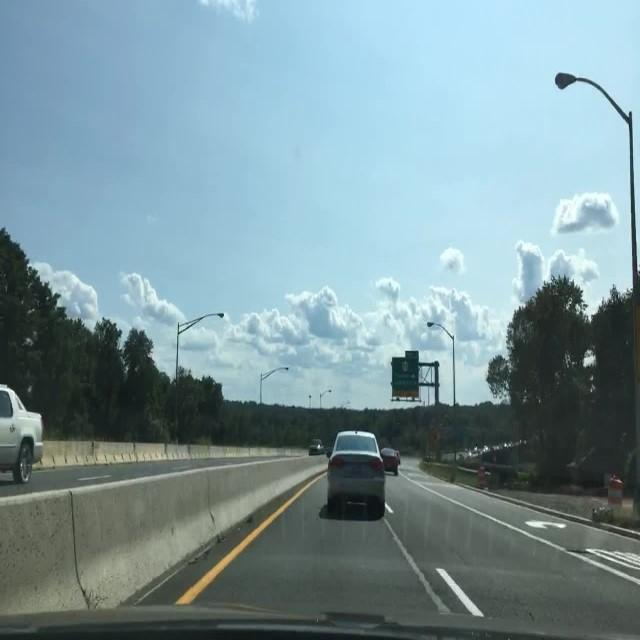normal: (289, 410, 445, 534)
